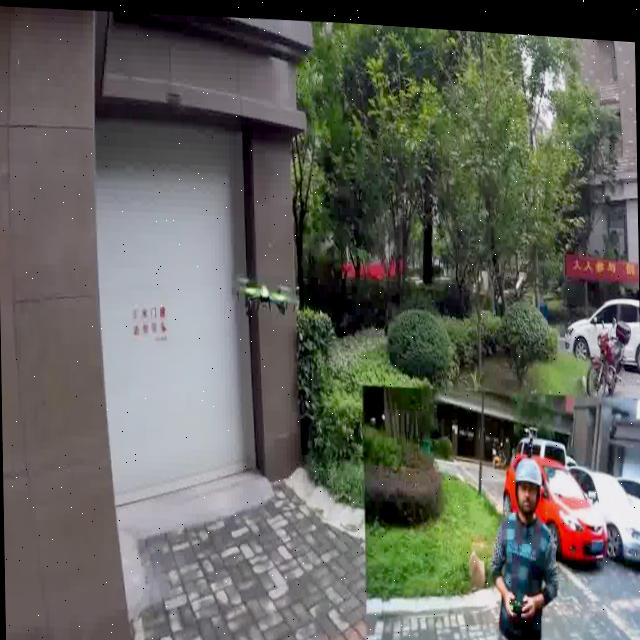drone: (224, 265, 308, 332)
